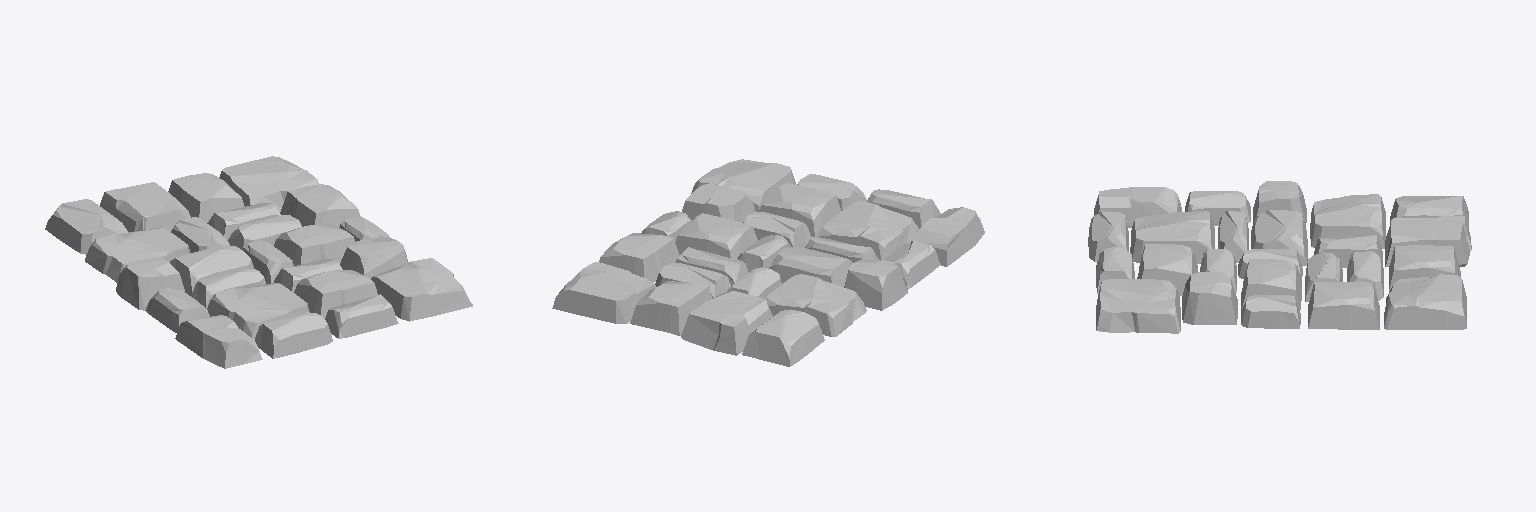
Rendered from RockPath_Square_Thin.obj.
The picture shows the model from 3 angles: view 1: azimuth 30°, elevation 25°; view 2: azimuth 150°, elevation 25°; view 3: azimuth 270°, elevation 25°; orthographic projection.
Parts seen in each view (by area): view 1: RockPath_Square_Thin; view 2: RockPath_Square_Thin; view 3: RockPath_Square_Thin.
Part boxes in pixels (x1,y1,x2,y2): RockPath_Square_Thin: (45, 156, 472, 368); RockPath_Square_Thin: (552, 159, 984, 366); RockPath_Square_Thin: (1088, 181, 1471, 333).
Bounding box in the file's own units: 1.56 × 0.1763 × 1.99.